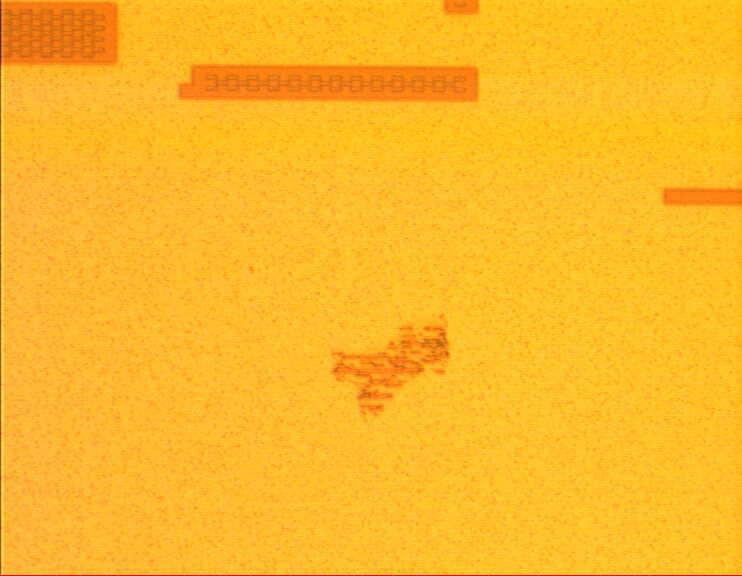PIQ PARTICLE: (324, 301, 462, 424)
